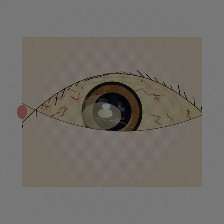corneal_ulcer: (69, 90, 134, 142)
